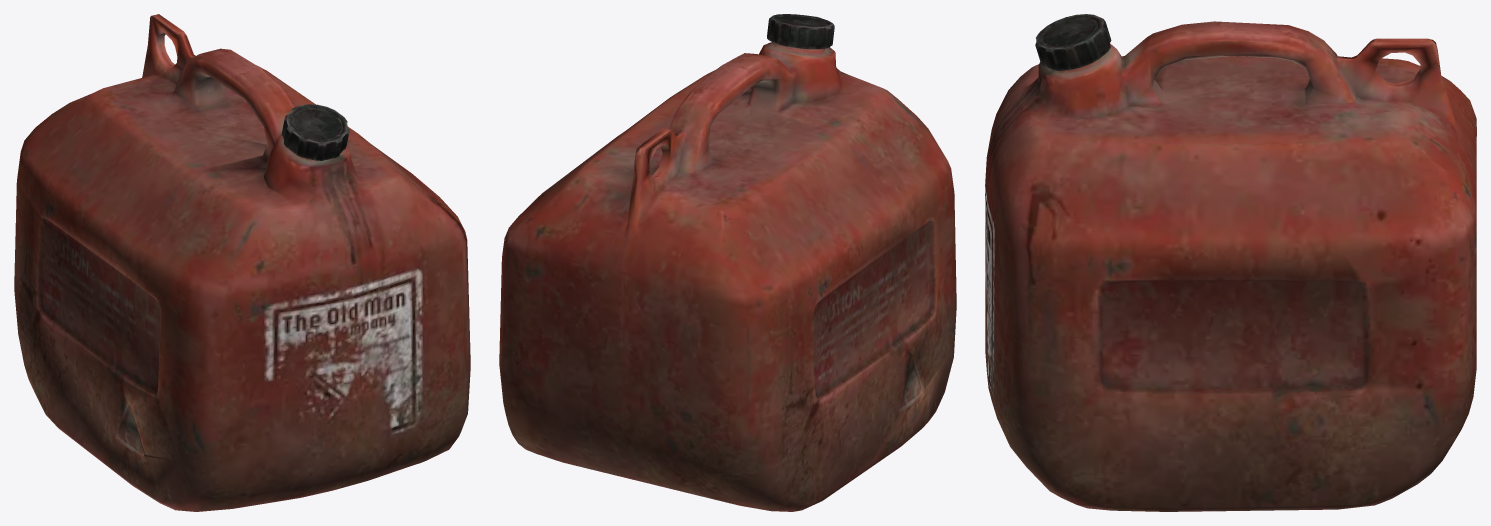
File: ph_plastic_jerrycan.glb
3 renders of one model, left to right at view 1: azimuth 30°, elevation 25°; view 2: azimuth 150°, elevation 25°; view 3: azimuth 270°, elevation 25°, orthographic. The views are drawn at different scales.
Visible parts, largest first — view 1: plastic_jerrycan; view 2: plastic_jerrycan; view 3: plastic_jerrycan.
Boxes of the visible parts, box(x1,y1,x2,y2) form: plastic_jerrycan: box(14, 14, 470, 511); plastic_jerrycan: box(499, 14, 956, 511); plastic_jerrycan: box(985, 14, 1476, 511).
Size of the model in its own units: 0.268 by 0.3181 by 0.3401.
Materials: 1 (1 with a texture image).
